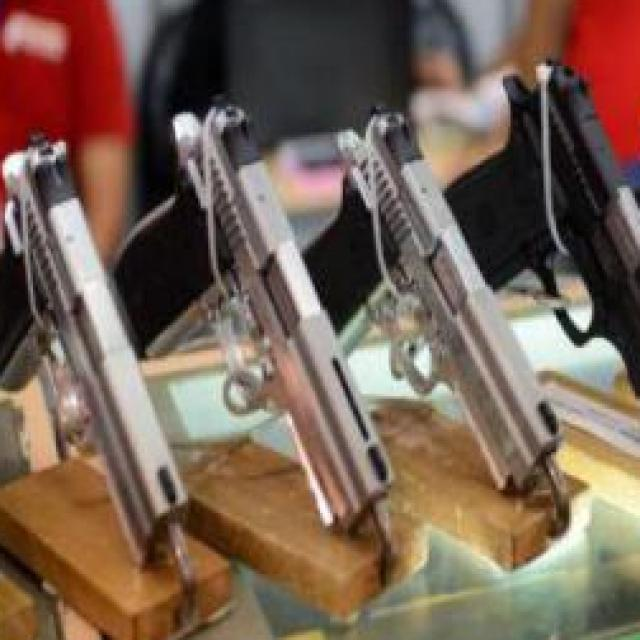pistol: (112, 94, 396, 542), (302, 97, 568, 506), (0, 125, 196, 590), (442, 46, 640, 454)
